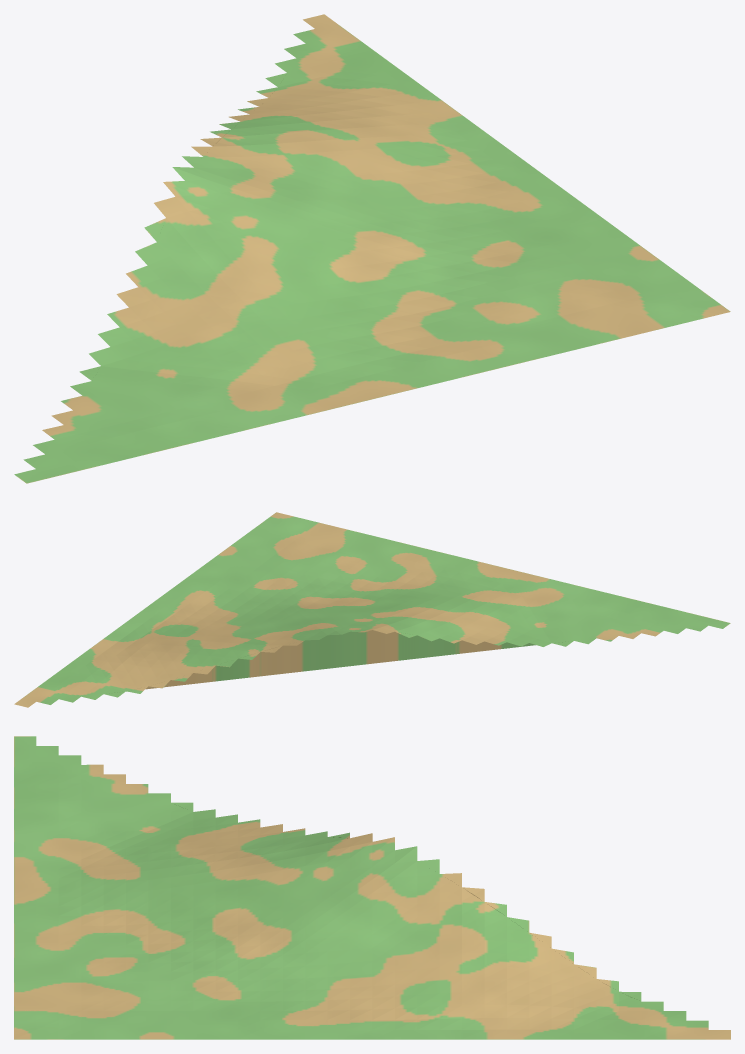
Rendered from Grass_Hills_04_NE.obj.
The picture shows the model from 3 angles, top to bottom: view 1: azimuth 30°, elevation 25°; view 2: azimuth 150°, elevation 25°; view 3: azimuth 270°, elevation 25°; orthographic projection. The views are drawn at different scales.
Bounding box in the file's own units: 10 × 0.7891 × 10.
Materials: 1 (1 with a texture image).
